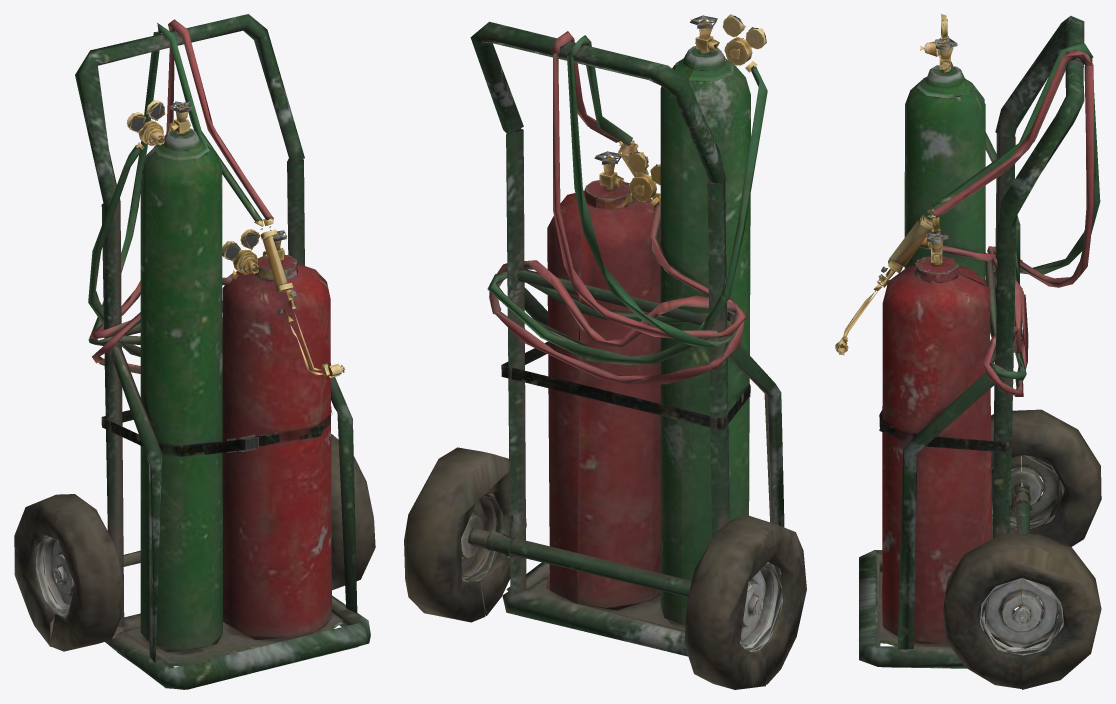
Rendered from portable_welding_cart.gltf.
3 views of the same model, side by side, from view 1: azimuth 30°, elevation 25°; view 2: azimuth 150°, elevation 25°; view 3: azimuth 270°, elevation 25° (orthographic). The views are drawn at different scales.
Visible parts, largest first — view 1: portable_welding_cart; view 2: portable_welding_cart; view 3: portable_welding_cart.
Boxes of the visible parts, x1,y1,x2,y2 form: portable_welding_cart: (14, 14, 375, 689); portable_welding_cart: (404, 14, 806, 689); portable_welding_cart: (835, 14, 1101, 689).
Size of the model in its own units: 0.8374 by 1.56 by 0.6552.
Materials: 2 (2 with a texture image).
